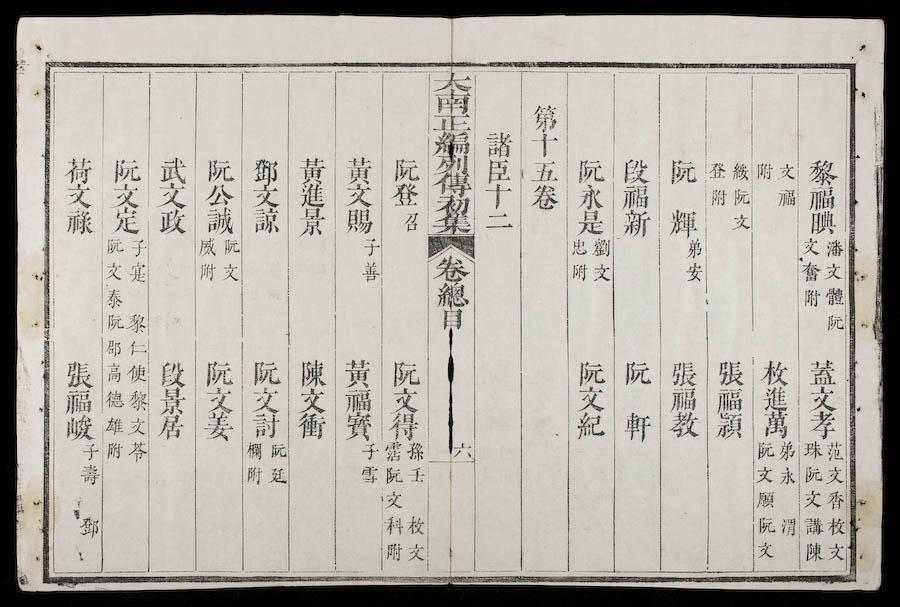c: (433, 255, 471, 283), (431, 131, 471, 157), (621, 410, 653, 442), (201, 412, 235, 442), (61, 358, 95, 388), (61, 154, 95, 184), (666, 207, 699, 237), (431, 71, 474, 94), (342, 357, 373, 388), (296, 207, 327, 238), (296, 357, 328, 387), (343, 412, 376, 441), (202, 358, 235, 387), (202, 207, 236, 235), (61, 208, 96, 235), (434, 283, 470, 309), (343, 207, 375, 236), (249, 357, 281, 386), (667, 358, 699, 387), (388, 359, 421, 387), (805, 158, 838, 186), (432, 173, 472, 196), (432, 92, 472, 115), (387, 413, 421, 440), (343, 155, 374, 184), (157, 155, 189, 183), (574, 412, 606, 440), (621, 358, 653, 386), (574, 209, 606, 237), (713, 412, 745, 440), (575, 358, 607, 386), (806, 357, 838, 385), (295, 155, 327, 183), (62, 414, 95, 441), (805, 411, 838, 438), (109, 156, 142, 183), (157, 358, 187, 387), (760, 410, 791, 438), (620, 210, 651, 238), (295, 413, 327, 440), (203, 156, 235, 183), (250, 207, 282, 234), (530, 102, 559, 131), (715, 358, 745, 386), (484, 130, 514, 158), (110, 207, 141, 234), (759, 358, 790, 385), (667, 158, 698, 185), (575, 157, 606, 184), (620, 157, 651, 184), (529, 184, 560, 211), (668, 412, 700, 438), (388, 387, 420, 413), (62, 388, 94, 414), (249, 412, 281, 438), (157, 387, 187, 414), (250, 156, 280, 183), (203, 387, 234, 413), (156, 209, 187, 235), (575, 386, 606, 412), (714, 387, 745, 413), (390, 156, 421, 182), (806, 386, 838, 411), (156, 183, 188, 208), (432, 214, 472, 234), (156, 414, 186, 440), (250, 387, 280, 413), (529, 132, 559, 158), (296, 388, 327, 413), (668, 387, 699, 412), (482, 184, 513, 209), (296, 183, 327, 208), (390, 183, 421, 208), (806, 186, 837, 211), (620, 185, 651, 210), (430, 114, 473, 132), (110, 183, 140, 208), (807, 211, 837, 236), (760, 386, 790, 411), (575, 185, 605, 210), (343, 389, 374, 413), (250, 184, 281, 208), (343, 184, 374, 208), (529, 159, 560, 183), (433, 196, 472, 215), (484, 159, 513, 184), (63, 183, 93, 207), (204, 183, 234, 206), (433, 156, 471, 174), (482, 212, 514, 233), (75, 513, 101, 538), (438, 309, 466, 331), (77, 462, 101, 485), (799, 260, 822, 283), (127, 388, 149, 411), (125, 362, 148, 384), (104, 286, 126, 309), (803, 540, 825, 563), (103, 414, 125, 436), (775, 187, 797, 209), (383, 489, 405, 511), (127, 440, 148, 463), (400, 211, 421, 234), (355, 441, 379, 461), (383, 514, 404, 536), (104, 388, 125, 410), (683, 261, 704, 283), (824, 286, 846, 307), (198, 236, 219, 258), (802, 514, 824, 535), (825, 514, 846, 536), (383, 440, 403, 463), (360, 260, 380, 283), (405, 513, 425, 536), (127, 260, 147, 283), (591, 262, 612, 283), (126, 312, 147, 333), (802, 488, 823, 509), (825, 541, 846, 562), (755, 540, 776, 561), (825, 488, 845, 510), (406, 541, 426, 563), (825, 440, 845, 462), (358, 464, 380, 484), (755, 489, 777, 509), (802, 439, 824, 459), (127, 415, 147, 437), (776, 440, 796, 461), (825, 464, 845, 485), (824, 312, 845, 332), (383, 465, 404, 485), (755, 464, 775, 485), (104, 260, 124, 281), (359, 237, 380, 257), (220, 262, 240, 283), (802, 287, 822, 308), (683, 239, 704, 259), (730, 162, 750, 183), (591, 238, 612, 258), (384, 541, 404, 562), (756, 514, 777, 534), (730, 212, 751, 232), (104, 361, 123, 383), (755, 440, 775, 460), (707, 161, 727, 181), (803, 464, 824, 483), (406, 441, 425, 462), (244, 440, 263, 461), (78, 442, 99, 461), (777, 465, 796, 486), (126, 338, 147, 357), (244, 464, 263, 485), (779, 515, 798, 536), (801, 237, 820, 257), (198, 261, 217, 281), (824, 261, 843, 281), (105, 440, 124, 460), (776, 162, 796, 181), (406, 465, 426, 484), (104, 337, 123, 356), (105, 312, 124, 331), (755, 162, 774, 181), (221, 237, 240, 256), (709, 188, 728, 207), (825, 239, 844, 258), (268, 465, 287, 484), (570, 262, 588, 282), (129, 237, 147, 257), (105, 237, 124, 255), (732, 188, 750, 207), (453, 440, 472, 458), (268, 441, 287, 459), (571, 238, 588, 257)
